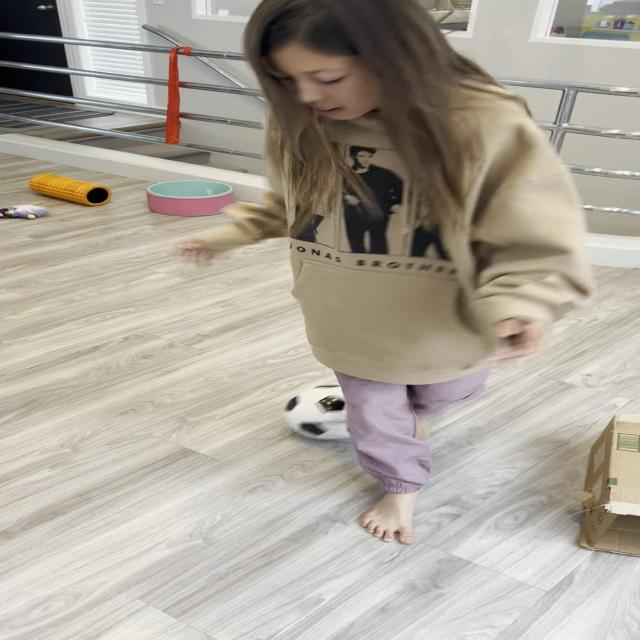Soccer Ball: (284, 384, 378, 439)
